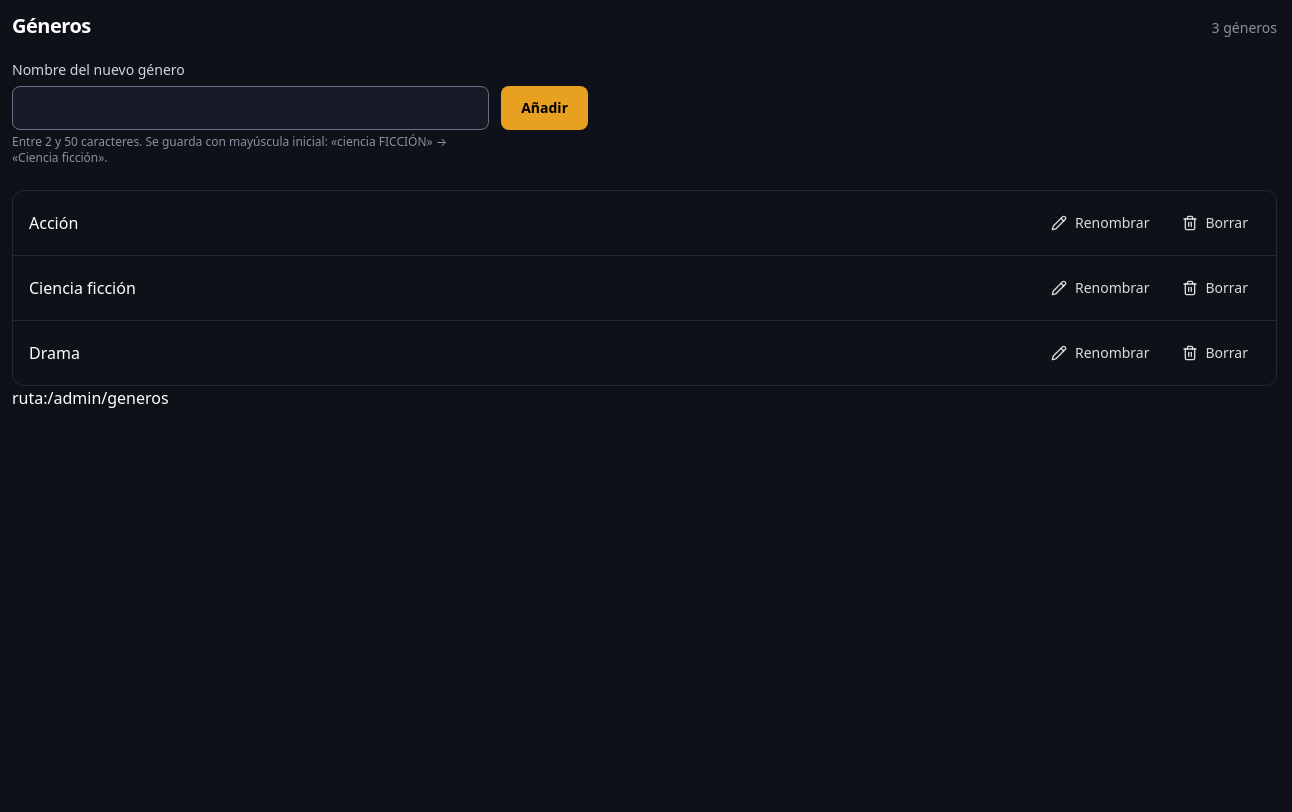
Test: AdminGenresPage: alta › crea el género, muestra el nombre NORMALIZADO que devuelve el servidor en su sitio y vacía el campo
Expected: the list named "Géneros" is shown, x1=12 y1=190 x2=1277 y2=386
Type "  ciencia FICCIÓN   retro " into the field labelled "Nombre del nuevo género".
click(251, 108); type("  ciencia FICCIÓN   retro ")  # box x1=12 y1=86 x2=489 y2=130
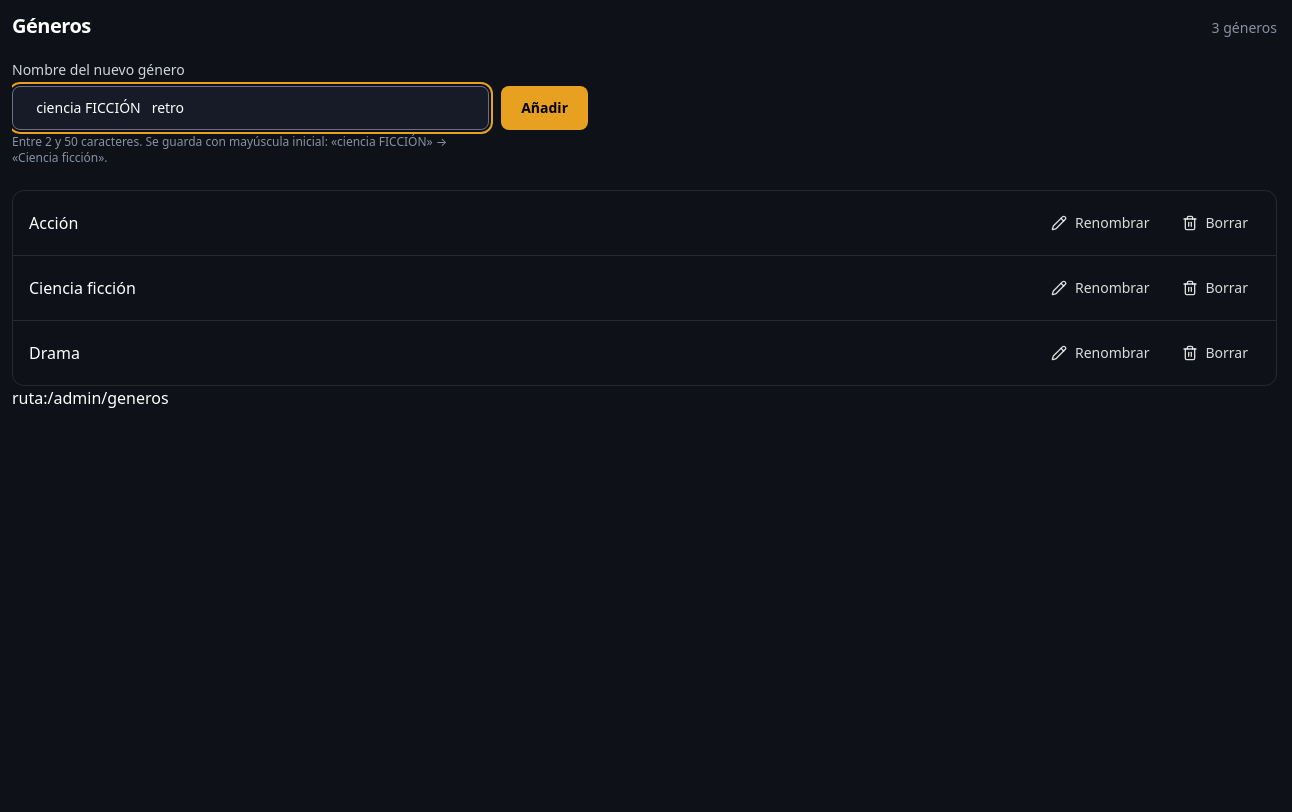
Click the button "Añadir".
click(545, 108)  # box x1=501 y1=86 x2=588 y2=130
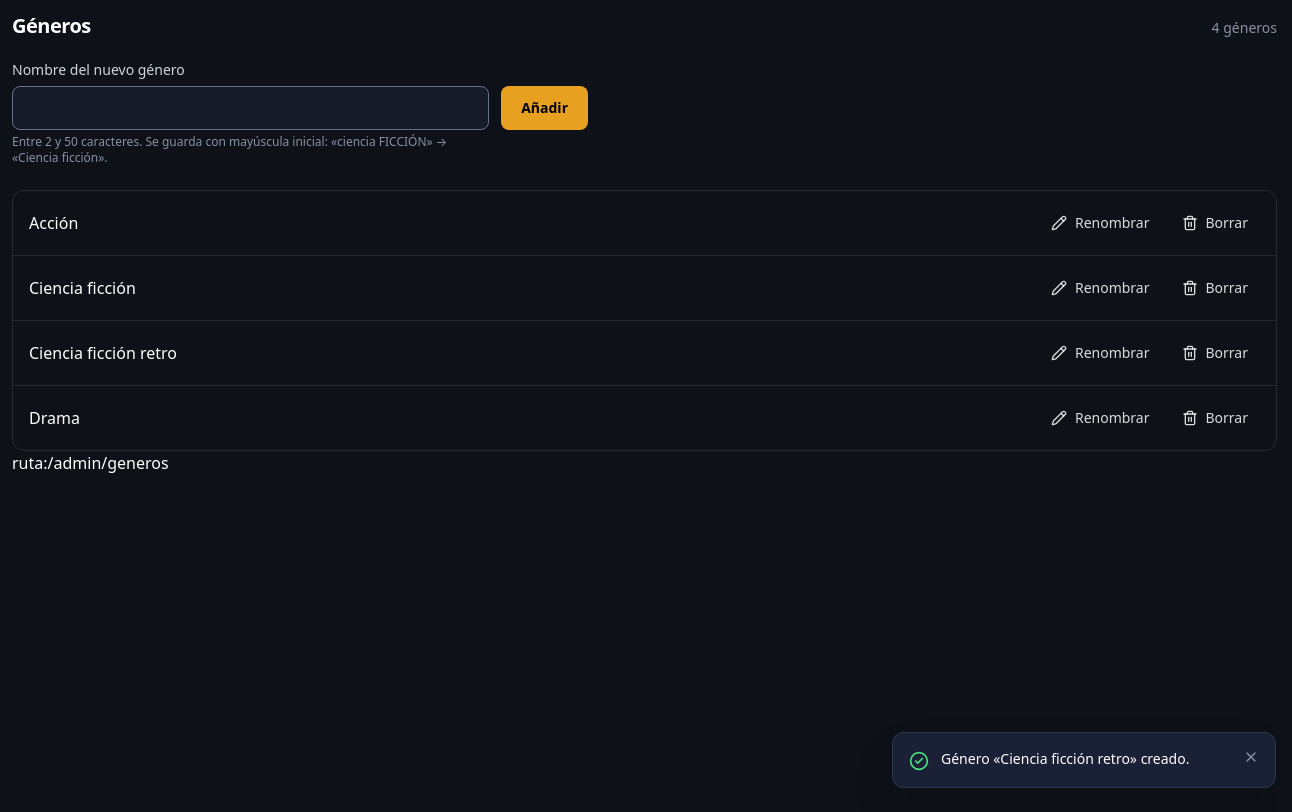
Expected: the text "Género «Ciencia ficción retro» creado." is shown, x1=941 y1=749 x2=1231 y2=768
Expected: the field labelled "Nombre del nuevo género" is empty, x1=12 y1=86 x2=489 y2=130
Expected: the text "4 géneros" is shown, x1=1212 y1=18 x2=1277 y2=38
